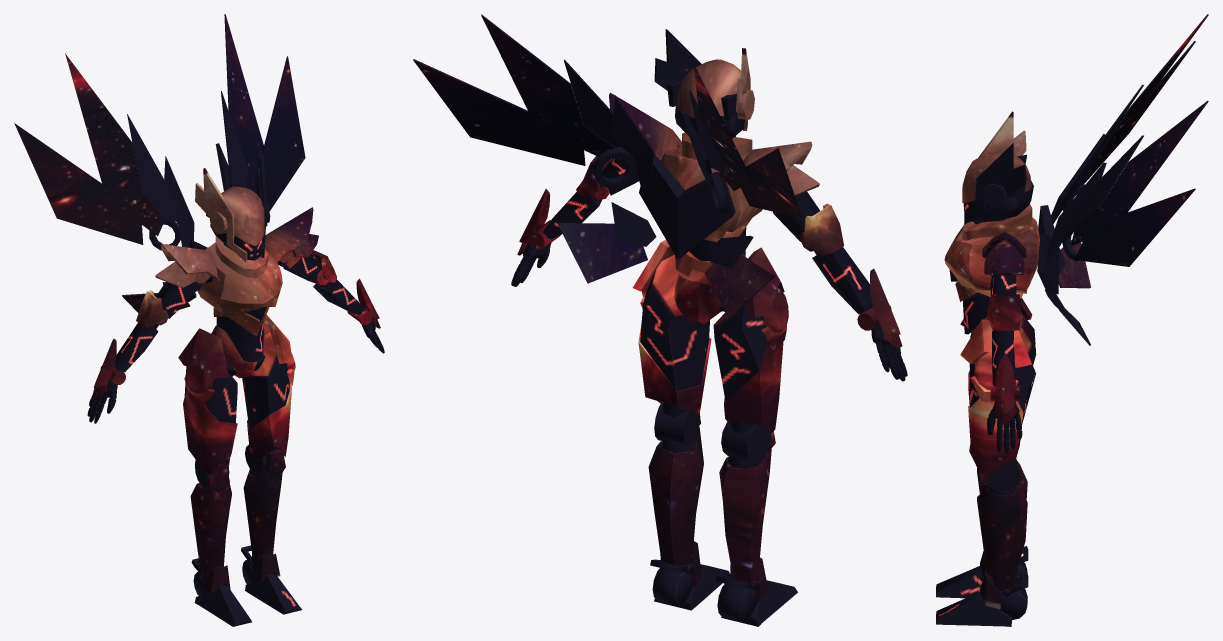
The model's file is Female_6.glb.
3 renders of one model, left to right at view 1: azimuth 30°, elevation 25°; view 2: azimuth 150°, elevation 25°; view 3: azimuth 270°, elevation 25°, orthographic. The views are drawn at different scales.
Visible parts, largest first — view 1: W1, WW2, WW1, GNG, BR1, GV2, GV1, NT, BR2, GV1.1, ARM1; view 2: W1, WW2, WW1, GNG, GV2, BR1, GV1, ARM1, BR2; view 3: W1, WW2, WW1, GNG, BR2, NT, GV2.2, ARM2, GV2.
Boxes of the visible parts, <box> form: W1: <box>87,154,384,626</box>; WW2: <box>14,14,305,312</box>; WW1: <box>127,91,247,301</box>; GNG: <box>197,242,282,320</box>; BR1: <box>178,328,228,378</box>; GV2: <box>265,207,313,262</box>; GV1: <box>161,244,217,279</box>; NT: <box>215,236,268,278</box>; BR2: <box>263,314,292,363</box>; GV1.1: <box>155,262,196,287</box>; ARM1: <box>93,338,116,387</box>; W1: <box>511,29,907,626</box>; WW2: <box>413,14,801,318</box>; WW1: <box>564,59,753,267</box>; GNG: <box>661,146,762,238</box>; GV2: <box>609,92,681,160</box>; BR1: <box>747,247,784,317</box>; GV1: <box>739,141,812,188</box>; ARM1: <box>870,268,900,334</box>; BR2: <box>632,240,674,291</box>; W1: <box>936,111,1036,626</box>; WW2: <box>1058,14,1208,345</box>; WW1: <box>1037,84,1143,311</box>; GNG: <box>944,217,1039,293</box>; BR2: <box>960,319,1032,367</box>; NT: <box>962,204,1032,240</box>; GV2.2: <box>984,244,1024,275</box>; ARM2: <box>996,354,1014,414</box>; GV2: <box>982,231,1026,257</box>.
Bounding box in the file's own units: 3.6 × 5.8 × 2.62.
2 materials, 2 textured.
